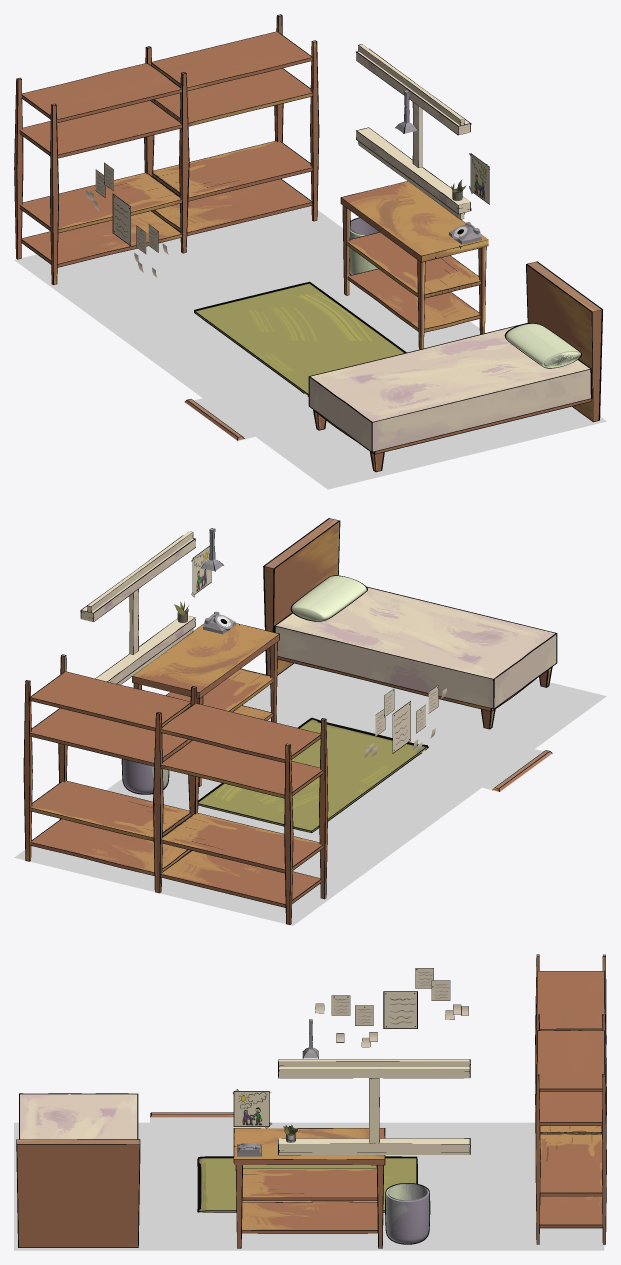
File: workbencharea4.fbx
The picture shows the model from 3 angles, top to bottom: view 1: azimuth 30°, elevation 25°; view 2: azimuth 150°, elevation 25°; view 3: azimuth 270°, elevation 25°; orthographic projection. The views are drawn at different scales.
Visible parts, largest first — view 1: Plane, bedmatress, carpet, cabinet3, cabinet4, cabinet1, cabinet2, workbenchlegs, bed, workbenchtop, bedoutline, cabinet1outline (+11 smaller); view 2: Plane, bedmatress, cabinet3, cabinet1, cabinet2, cabinet4, carpet, workbenchtop, bed, workbenchlegs, bedoutline, cabinet3outline (+13 smaller); view 3: Plane, bed, workbenchlegs, cabinet4, cabinet2, bedmatress, cabinet3, carpet, workbenchtop, windowborder1, trashcan, windowborder3 (+16 smaller).
Boxes of the visible parts, left/top/right/bottom form: Plane: left=14, top=206, right=606, bottom=489; bedmatress: left=309, top=326, right=592, bottom=451; carpet: left=195, top=283, right=404, bottom=395; cabinet3: left=14, top=48, right=182, bottom=195; cabinet4: left=147, top=15, right=318, bottom=164; cabinet1: left=14, top=137, right=187, bottom=284; cabinet2: left=152, top=105, right=318, bottom=235; workbenchlegs: left=343, top=205, right=485, bottom=349; bed: left=314, top=262, right=601, bottom=471; workbenchtop: left=341, top=181, right=488, bottom=261; bedoutline: left=308, top=261, right=602, bottom=472; cabinet1outline: left=14, top=136, right=189, bottom=284; Plane: left=14, top=663, right=606, bottom=925; bedmatress: left=275, top=587, right=556, bottom=708; cabinet3: left=153, top=688, right=327, bottom=835; cabinet1: left=155, top=777, right=327, bottom=924; cabinet2: left=24, top=745, right=195, bottom=892; cabinet4: left=24, top=654, right=195, bottom=796; carpet: left=198, top=719, right=426, bottom=832; workbenchtop: left=132, top=623, right=279, bottom=698; bed: left=264, top=518, right=550, bottom=728; workbenchlegs: left=134, top=642, right=277, bottom=786; bedoutline: left=263, top=518, right=557, bottom=729; cabinet3outline: left=153, top=686, right=328, bottom=835; Plane: left=14, top=1114, right=604, bottom=1250; bed: left=17, top=1139, right=139, bottom=1247; workbenchlegs: left=236, top=1165, right=383, bottom=1248; cabinet4: left=535, top=1014, right=606, bottom=1160; cabinet2: left=536, top=1101, right=606, bottom=1244; bedmatress: left=20, top=1094, right=137, bottom=1139; cabinet3: left=535, top=954, right=605, bottom=1036; carpet: left=198, top=1158, right=416, bottom=1212; workbenchtop: left=234, top=1128, right=384, bottom=1164; windowborder1: left=278, top=1138, right=469, bottom=1152; trashcan: left=385, top=1183, right=430, bottom=1244; windowborder3: left=279, top=1067, right=469, bottom=1078.
Size of the model in its own units: 618 by 440 by 1113.
84 materials, 32 textured.
